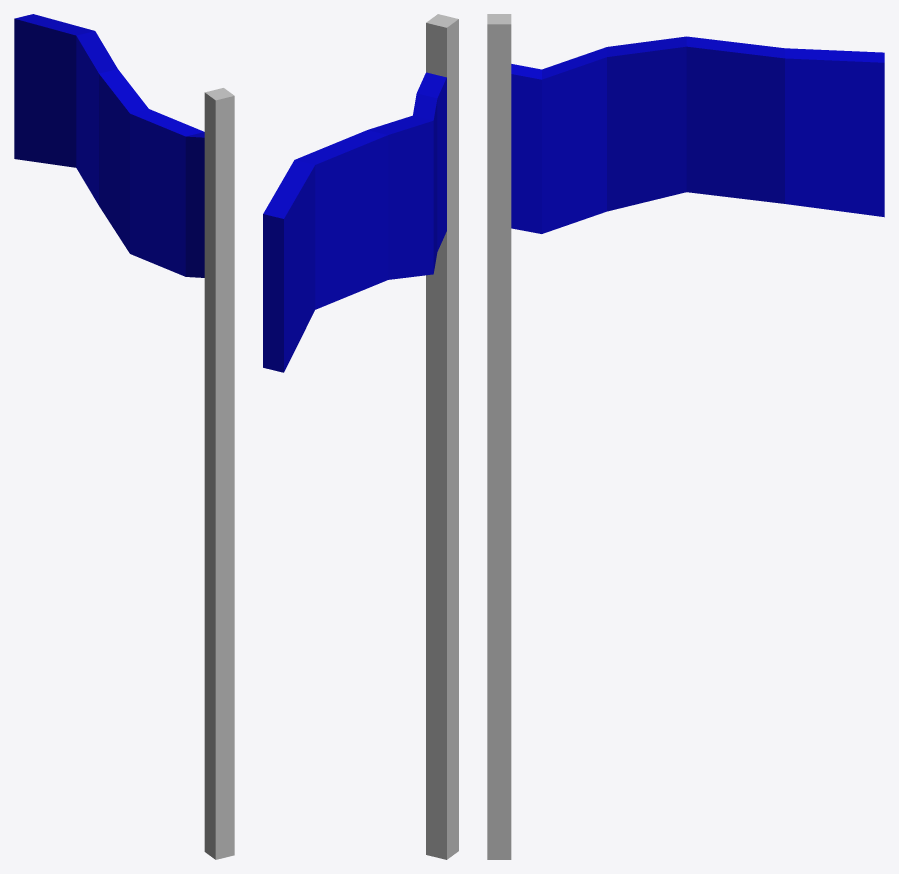
File: flag_blue.fbx
3 views of the same model, side by side, from view 1: azimuth 30°, elevation 25°; view 2: azimuth 150°, elevation 25°; view 3: azimuth 270°, elevation 25° (orthographic). The views are drawn at different scales.
Parts seen in each view (by area): view 1: Cube.001_Cube.002; view 2: Cube.001_Cube.002; view 3: Cube.001_Cube.002.
Boxes of the visible parts, x1,y1,x2,y2 form: Cube.001_Cube.002: (14, 14, 234, 859); Cube.001_Cube.002: (263, 14, 458, 859); Cube.001_Cube.002: (487, 14, 884, 859).
Size of the model in its own units: 60.71 by 875 by 377.
